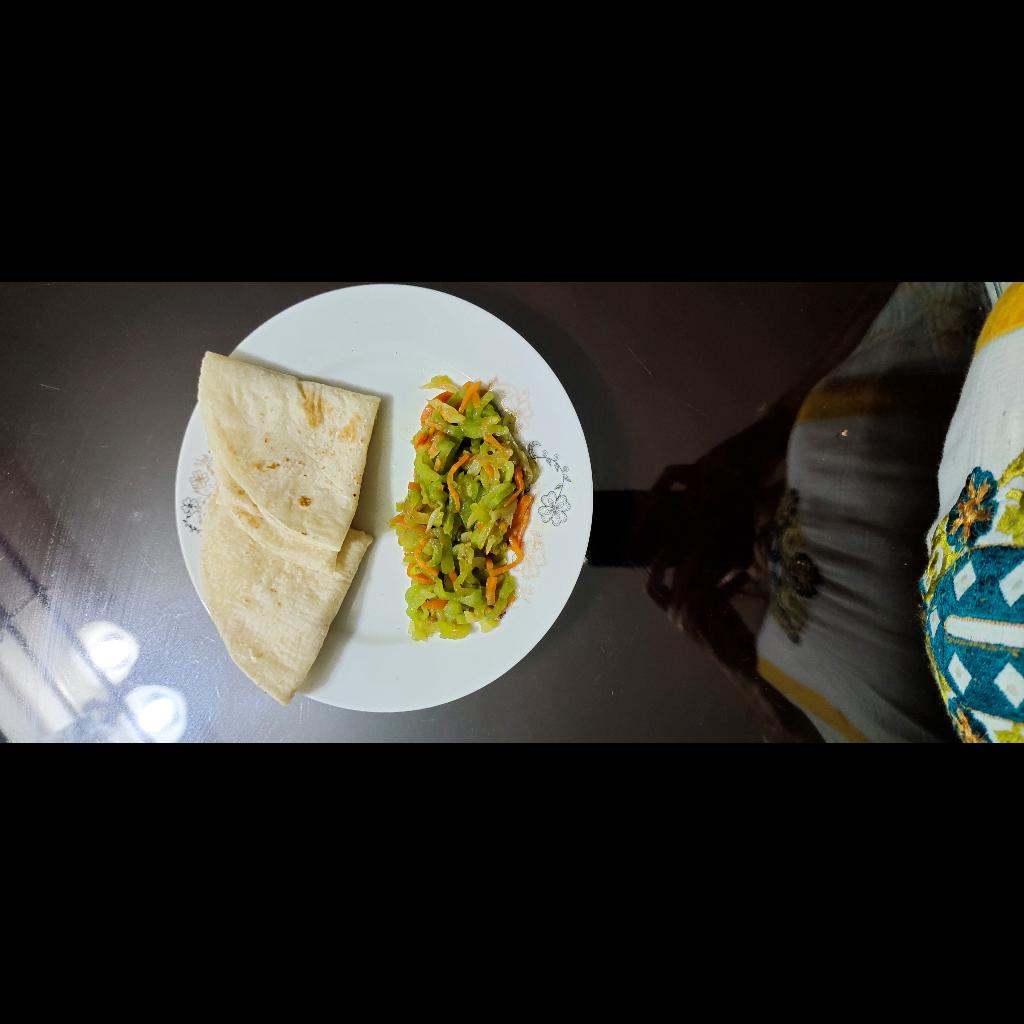chichinga-vaji: (102, 670, 367, 818)
ruti: (37, 478, 395, 663)
